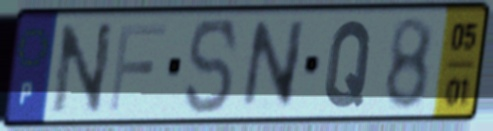8: (380, 14, 434, 113)
F: (105, 20, 170, 115)
N: (237, 17, 310, 114), (49, 19, 118, 118)
Q: (321, 17, 376, 111)
S: (182, 15, 241, 119)
